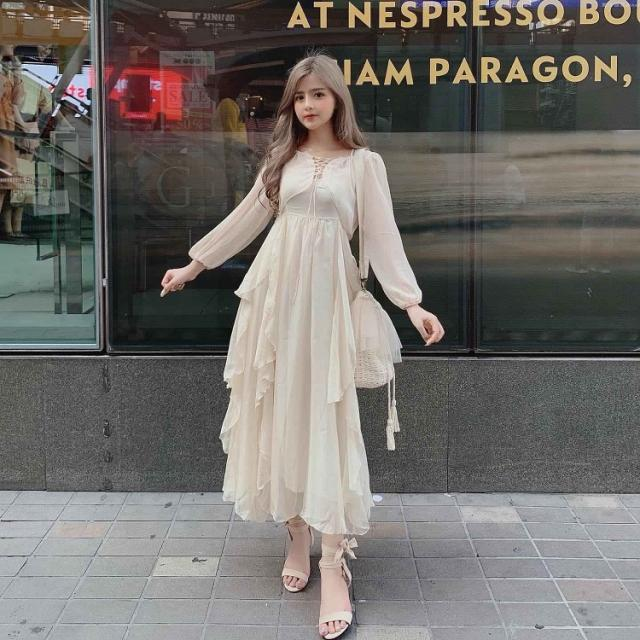clothes: (234, 140, 402, 540)
